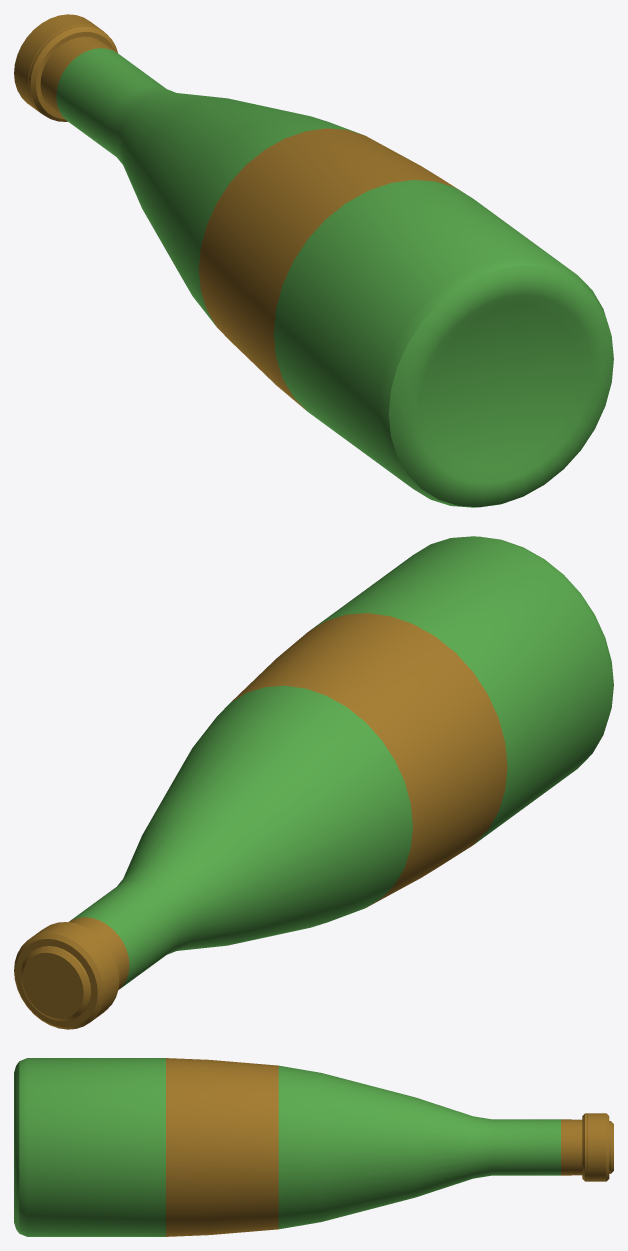
Rendered from Bottle.fbx.
3 renders of one model, top to bottom at view 1: azimuth 30°, elevation 25°; view 2: azimuth 150°, elevation 25°; view 3: azimuth 270°, elevation 25°, orthographic. The views are drawn at different scales.
Visible parts, largest first — view 1: garrafa, garrafa.001; view 2: garrafa; view 3: garrafa, garrafa.001.
Part boxes in pixels (bbox=[...]): garrafa: bbox=[14, 14, 613, 507]; garrafa.001: bbox=[28, 25, 117, 121]; garrafa: bbox=[14, 536, 613, 1029]; garrafa: bbox=[14, 1058, 613, 1236]; garrafa.001: bbox=[582, 1113, 587, 1181].
Size of the model in its own units: 111 by 111 by 373.
